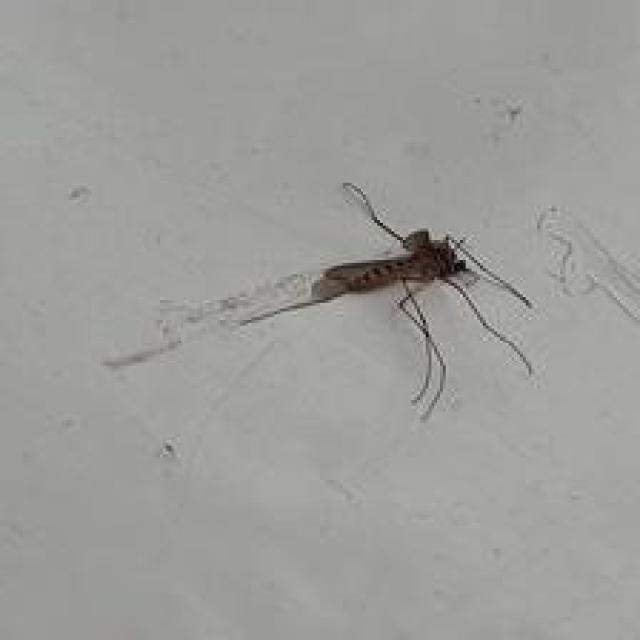Culex: (235, 180, 536, 423)
